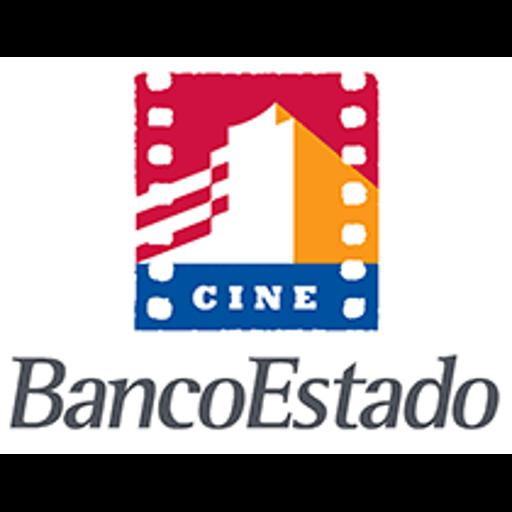Banco del Estado de Chile: (0, 57, 512, 454)
